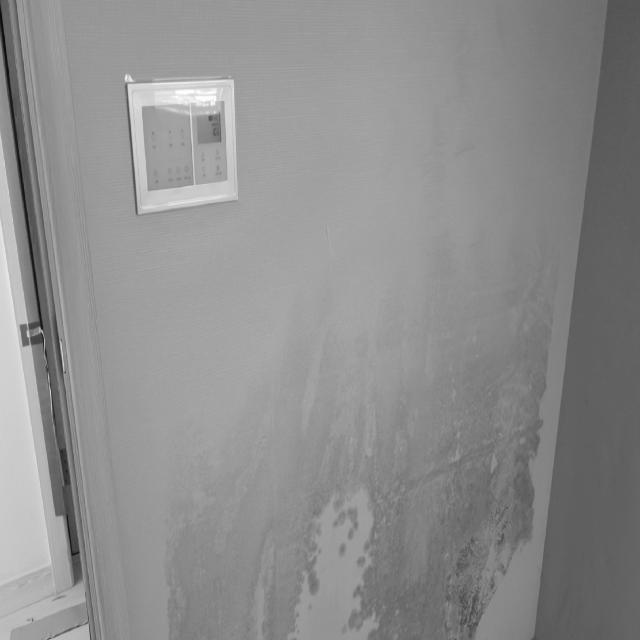stain marks: (164, 208, 568, 640), (372, 1, 532, 203)
